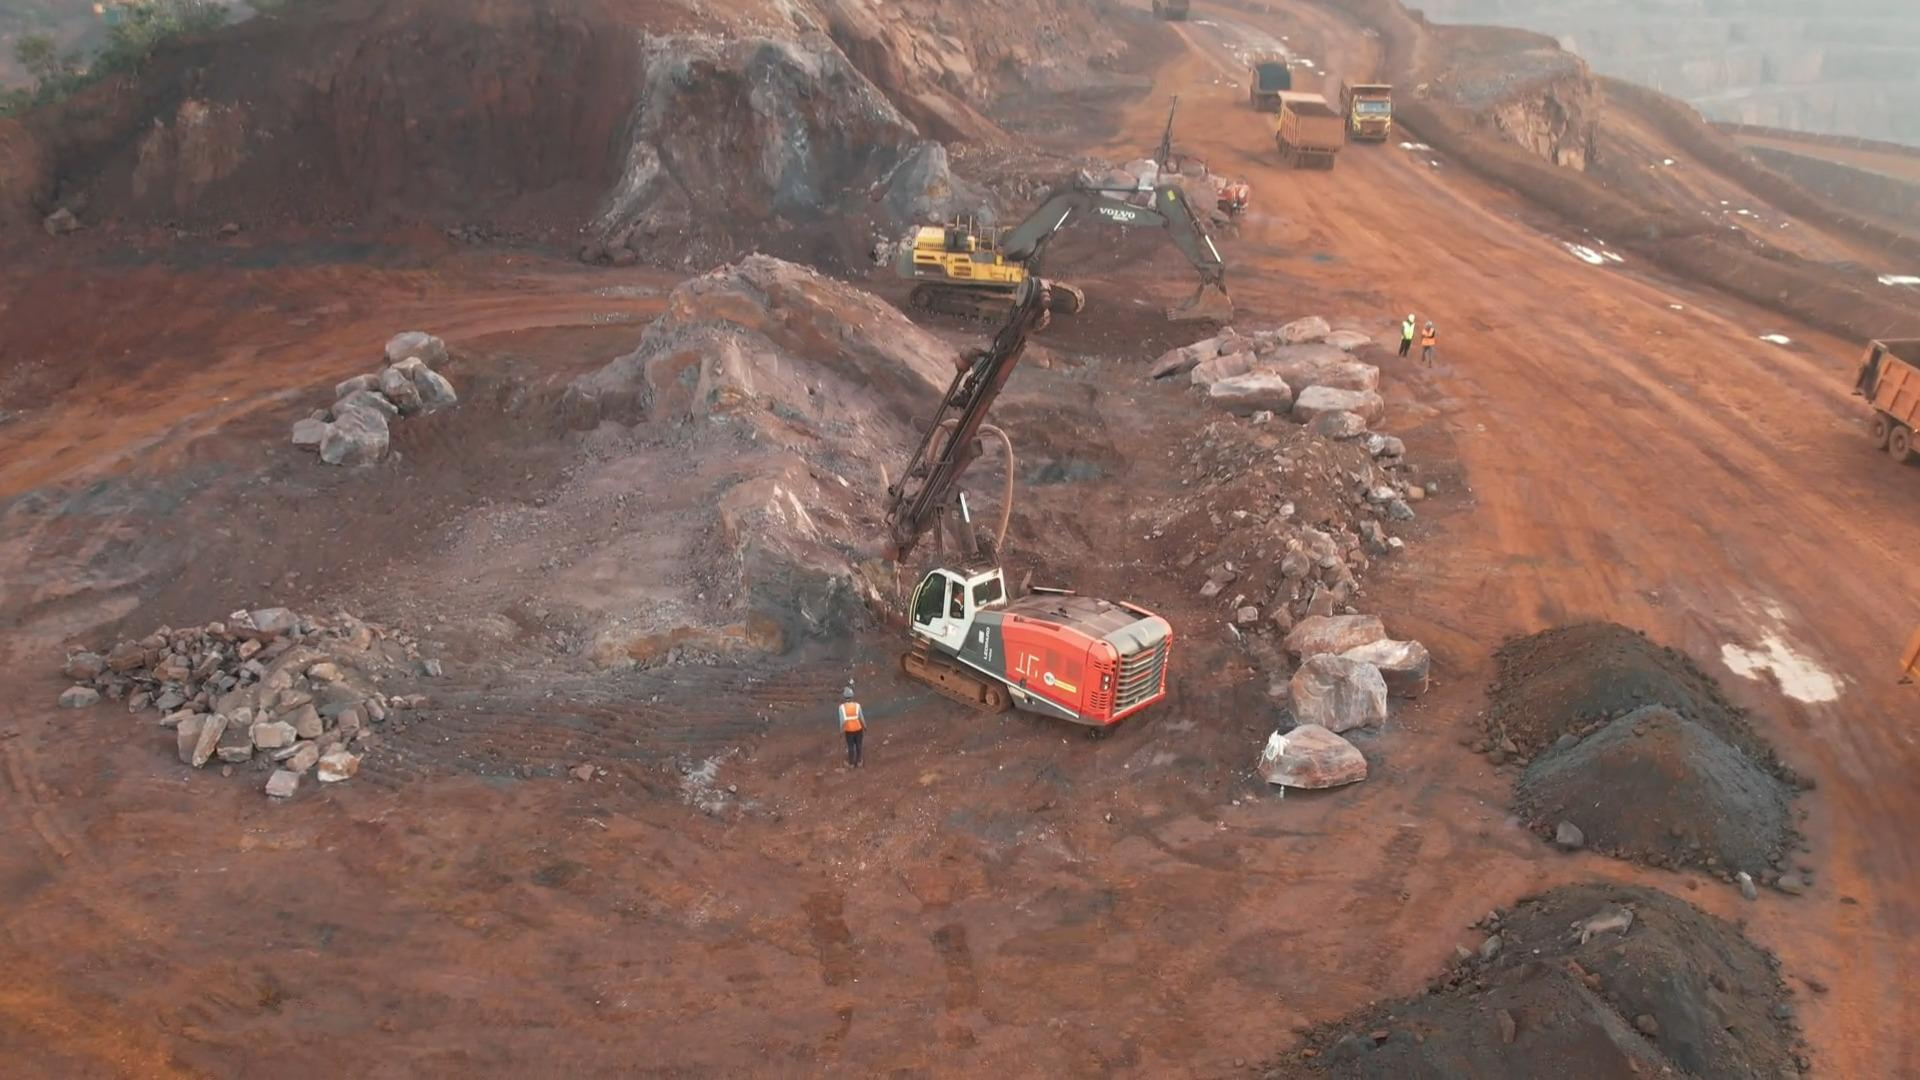excavator: (902, 186, 1228, 302)
